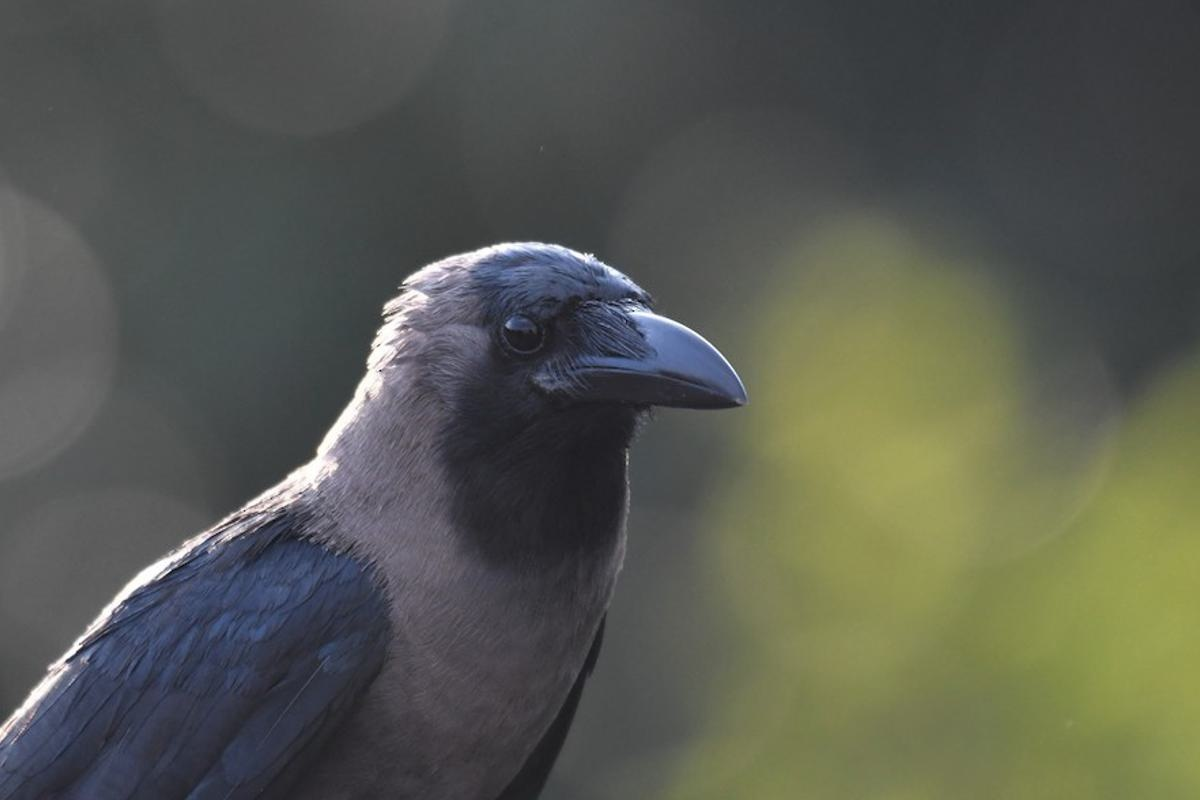crow: (1, 231, 759, 800)
